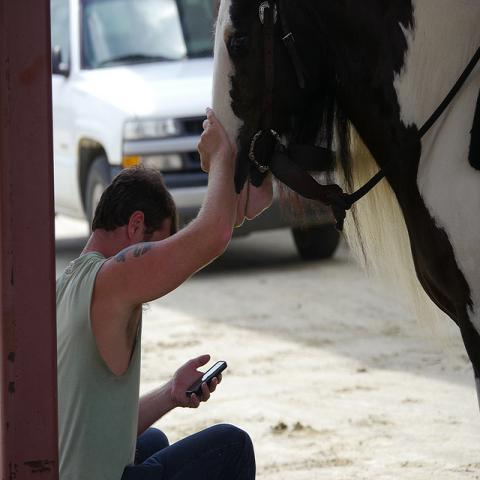truck: (52, 1, 343, 268)
